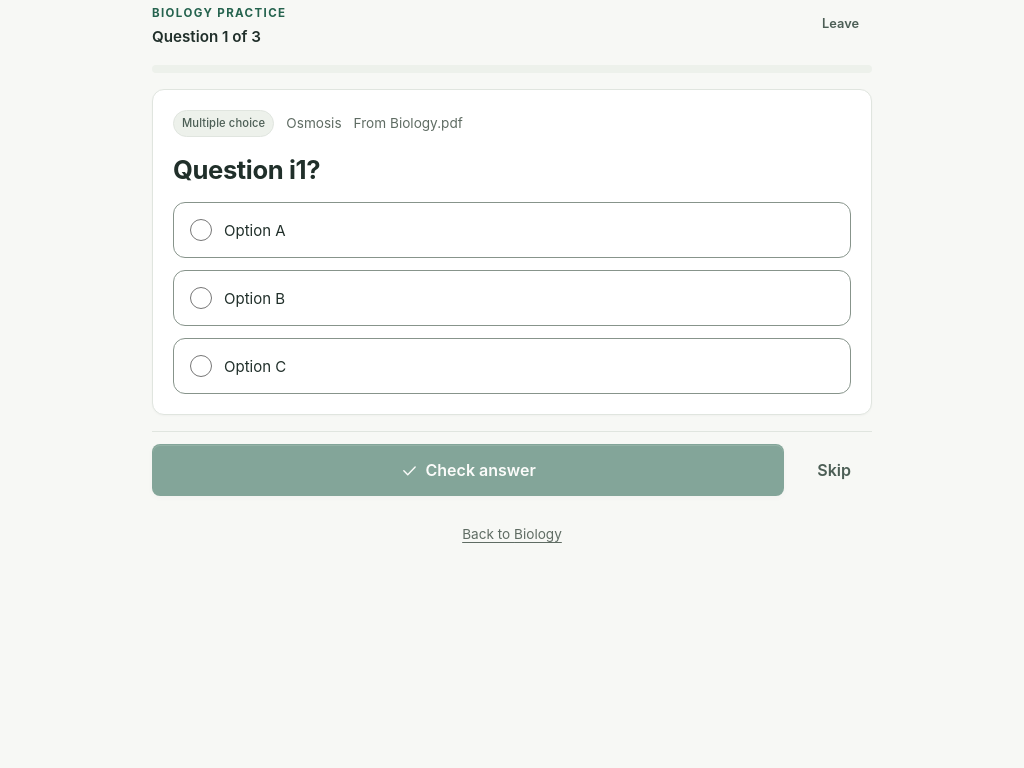
practice session › continues to the next question after feedback
Click the radio button labelled "Option A": click(201, 230) [190,219,212,241]
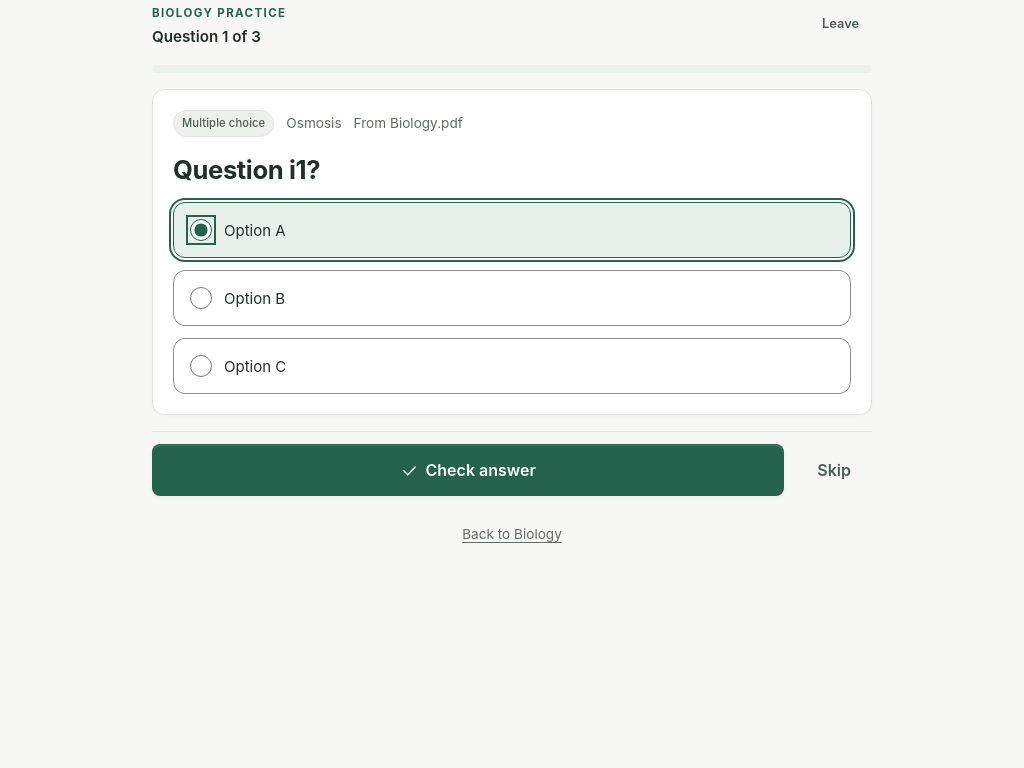
Click the button "Check answer": click(468, 470) [152,444,784,496]
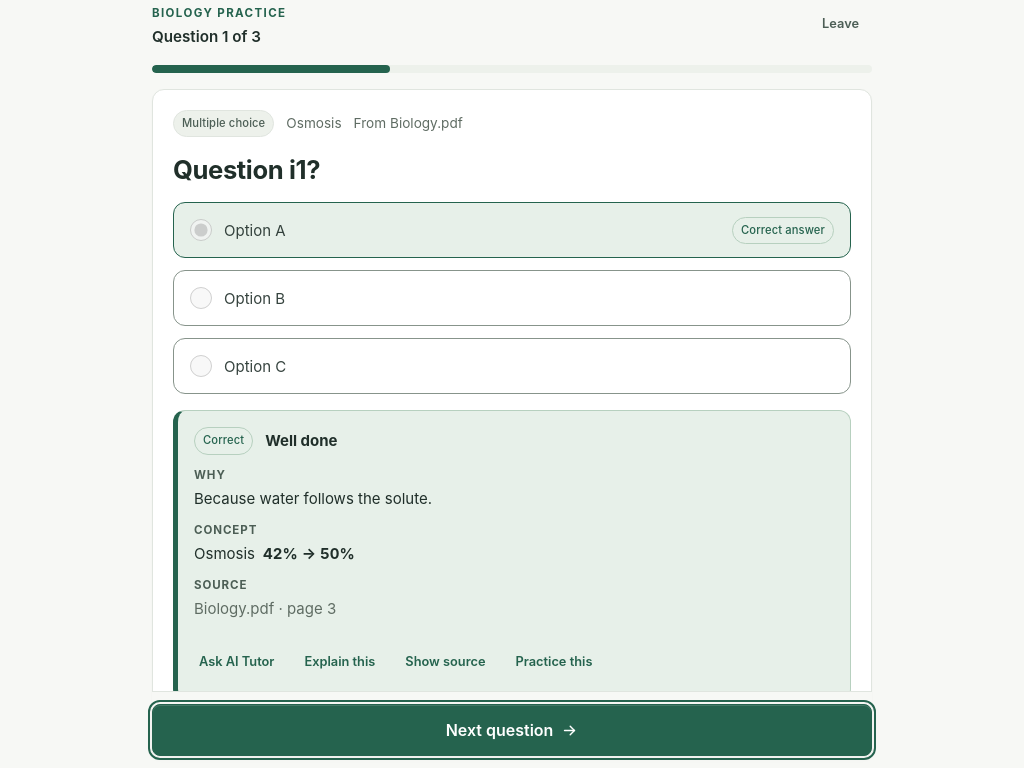
Now the text "Well done" is shown, box [265,430,338,453]
Click the button "Next question": click(512, 730) [152,704,872,756]
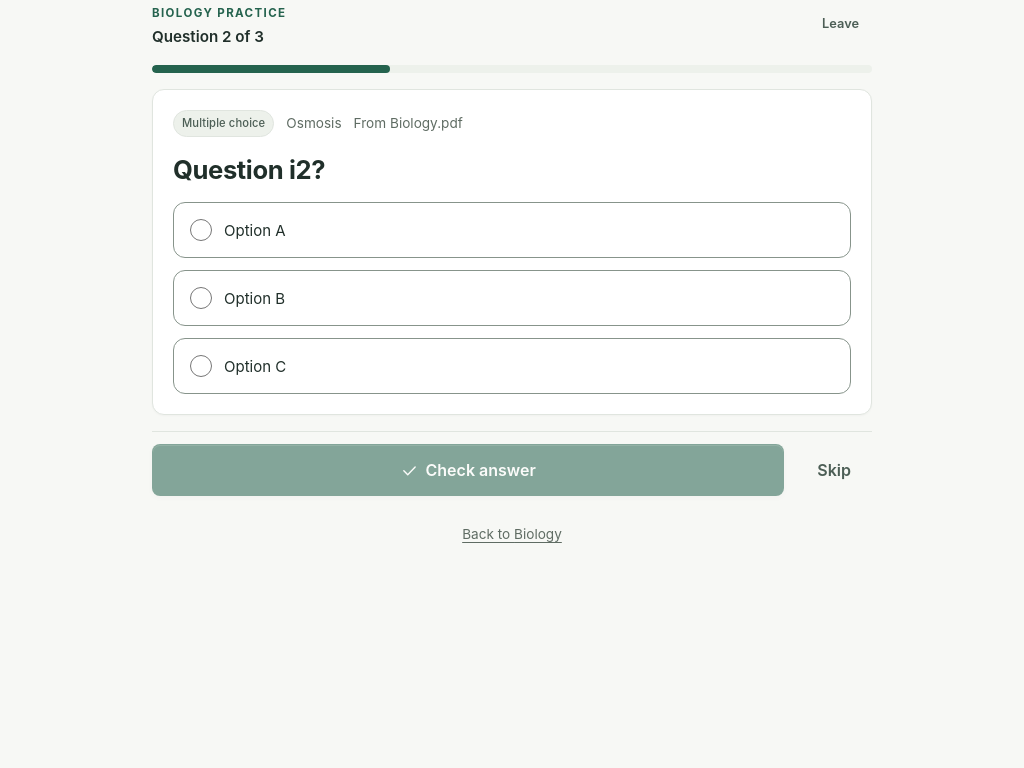
Expected: the heading "Question i2?" is shown, [173,154,325,185]
Now the text "Question 2 of 3" is shown, box [152,27,264,46]
